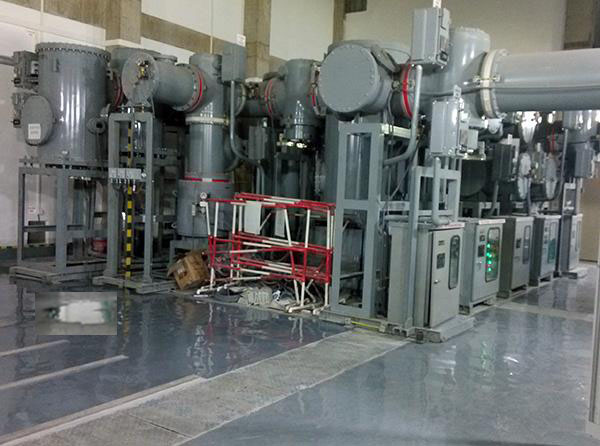oil: (35, 291, 116, 336)
